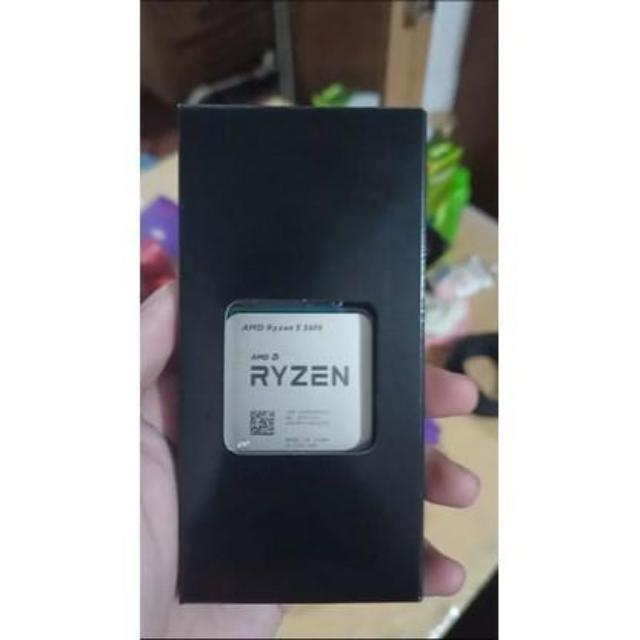CPU: (222, 315, 374, 453)
